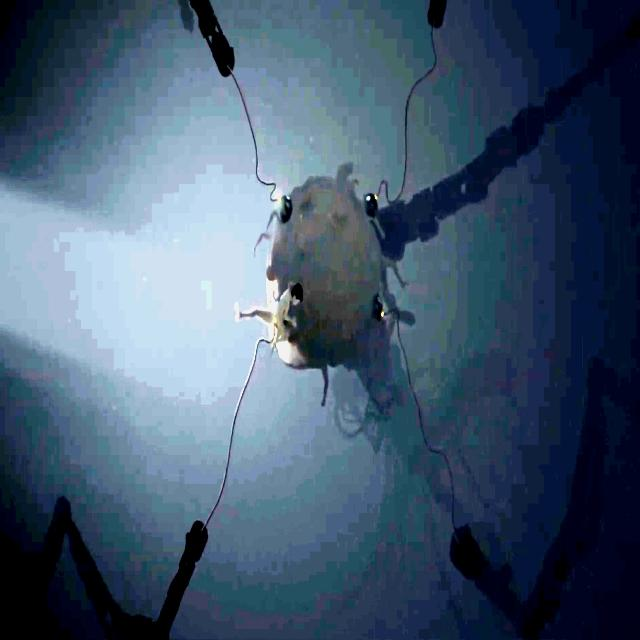blob: (234, 158, 408, 408)
boy: (272, 282, 304, 352)
interactible: (274, 190, 292, 224), (370, 298, 386, 325), (365, 191, 378, 219)
mechanism: (384, 12, 640, 262), (452, 358, 640, 640), (48, 496, 208, 640), (185, 0, 237, 80), (427, 0, 451, 27)
